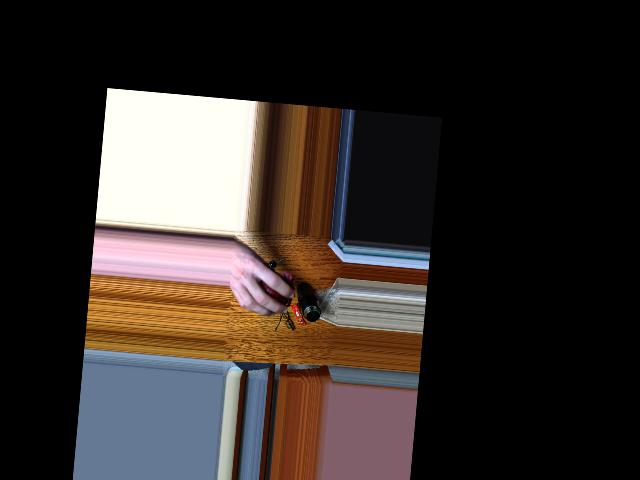onion: (250, 264, 288, 308)
